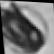correct: (0, 1, 49, 54)
